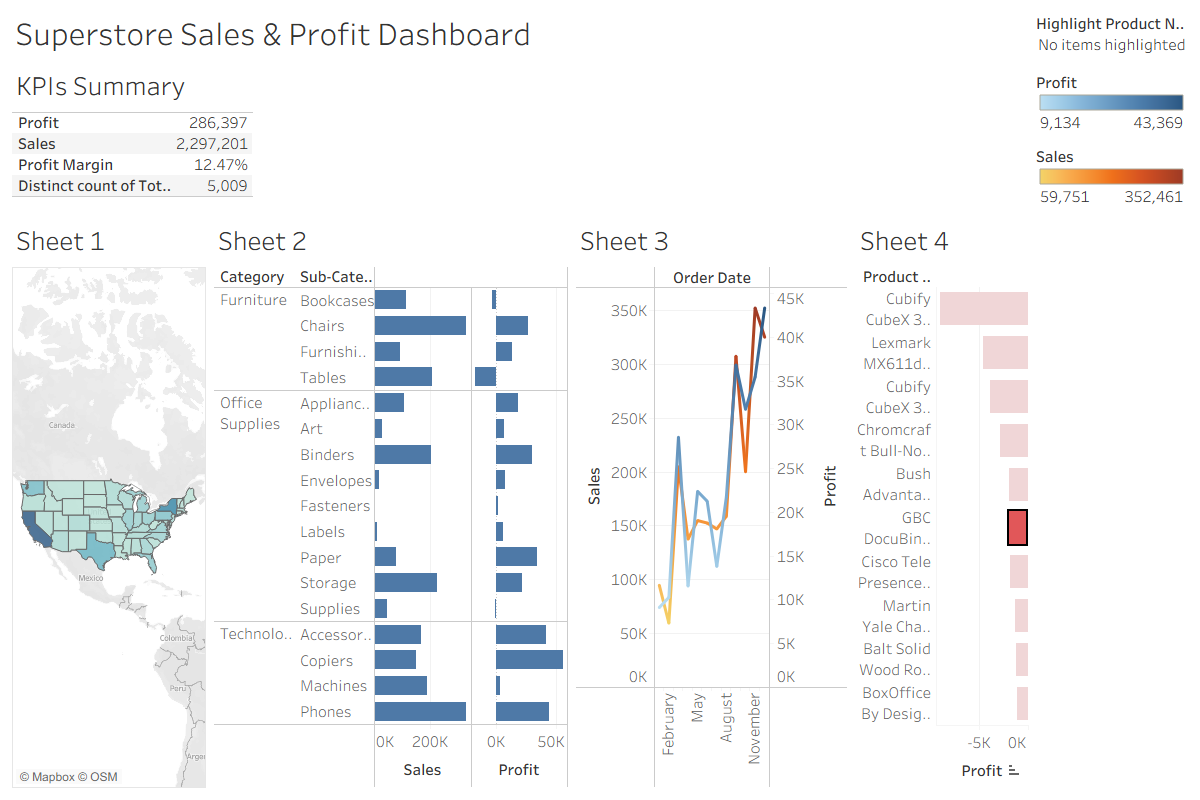

Layout of this report page (visuals, bound fields, positions):
{"tool":"tableau","page":{"name":"Dashboard 1","canvas":[1200,800],"ordinal":0},"visuals":[{"type":"title","box":[8,8,1024,50]},{"type":"highlighter","title":"Sheet 4","param":"[federated.1qgy1b60vu98h31bzl30f08hblfa].[none:Product Name:nk]","box":[1032,8,160,56]},{"type":"worksheet","title":"KPIs Summary","mark":"Automatic","box":[8,58,1024,143]},{"type":"legend","title":"Sheet 3","param":"[federated.1qgy1b60vu98h31bzl30f08hblfa].[sum:Profit:qk]","box":[1032,64,160,73]},{"type":"legend","title":"Sheet 3","param":"[federated.1qgy1b60vu98h31bzl30f08hblfa].[sum:Sales:qk]","box":[1032,137,160,73]},{"type":"worksheet","title":"Sheet 1","mark":"Automatic","box":[8,213,202,578.9]},{"type":"worksheet","title":"Sheet 2","mark":"Automatic","rows":["Category","Sub-Category"],"cols":["Sales","Profit"],"box":[210,213,362,578.9]},{"type":"worksheet","title":"Sheet 3","mark":"Automatic","rows":["Sales","Profit"],"cols":["Order Date"],"box":[572,213,280,578.9]},{"type":"worksheet","title":"Sheet 4","mark":"Automatic","rows":["Product Name"],"cols":["Profit"],"box":[852,213,180,578.9]}]}

Visuals, with their boxes in screenshot pixels (x1, y1, x2, y2), scaled from the page's 1200x800 canvas onto the 1200x800 screenshot:
title: region(8, 8, 1032, 58)
"Sheet 4" highlighter: region(1032, 8, 1192, 64)
"KPIs Summary" worksheet: region(8, 58, 1032, 201)
"Sheet 3" legend: region(1032, 64, 1192, 137)
"Sheet 3" legend: region(1032, 137, 1192, 210)
"Sheet 1" worksheet: region(8, 213, 210, 792)
"Sheet 2" worksheet: region(210, 213, 572, 792)
"Sheet 3" worksheet: region(572, 213, 852, 792)
"Sheet 4" worksheet: region(852, 213, 1032, 792)
